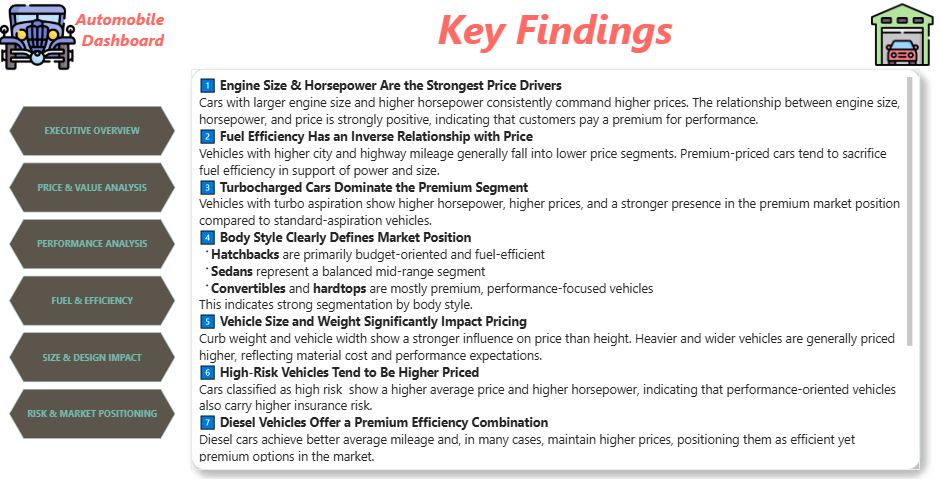

What the dashboard file says about the page in this screenshot:
{"tool":"powerbi","page":{"name":"KEY FINDINGS","canvas":[1400,720],"ordinal":1},"visuals":[{"type":"textbox","box":[0,9.4,250.2,81.3],"z":0},{"type":"image","box":[0,0,113.6,115.9],"z":1000},{"type":"textbox","box":[284.7,106.1,1083,595.2],"z":2000},{"type":"textbox","box":[599.1,0,451.6,90.6],"z":3000},{"type":"pageNavigator","box":[15.5,160.4,247.1,496.9],"z":4000},{"type":"image","box":[1295.1,3.4,93.5,102.6],"z":5000}]}

Visuals, with their boxes in screenshot pixels (x1, y1, x2, y2), scaled from the page's 1400x720 canvas onto the 940x479 screenshot:
textbox: 0, 6, 168, 60
image: 0, 0, 76, 77
textbox: 191, 71, 918, 467
textbox: 402, 0, 705, 60
pageNavigator: 10, 107, 176, 437
image: 870, 2, 932, 71
